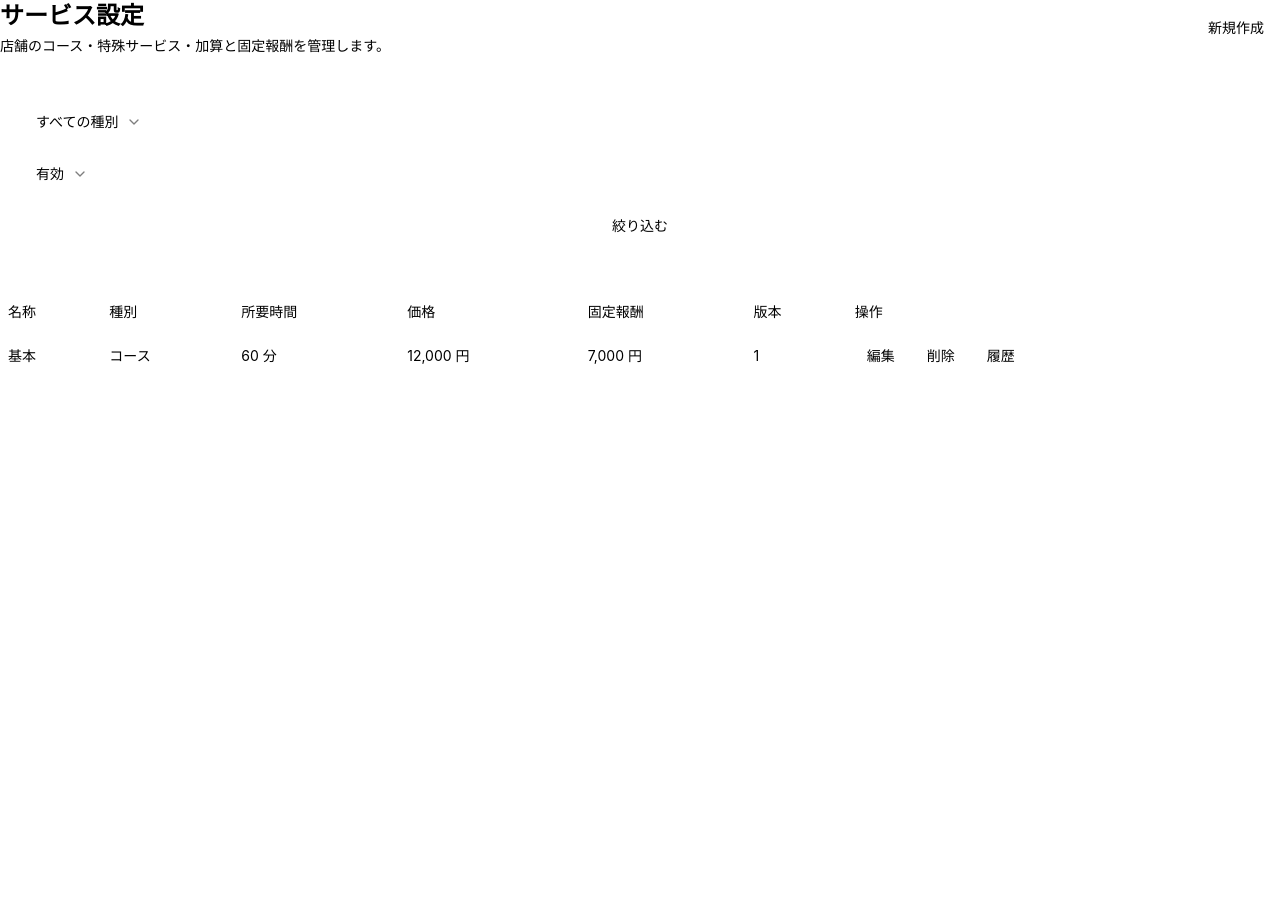
it: 存在しない詳細を Escape で閉じても一覧を再取得する
Click the button "編集" at point(881, 356), box top-left (855, 340), bottom-right (907, 372)
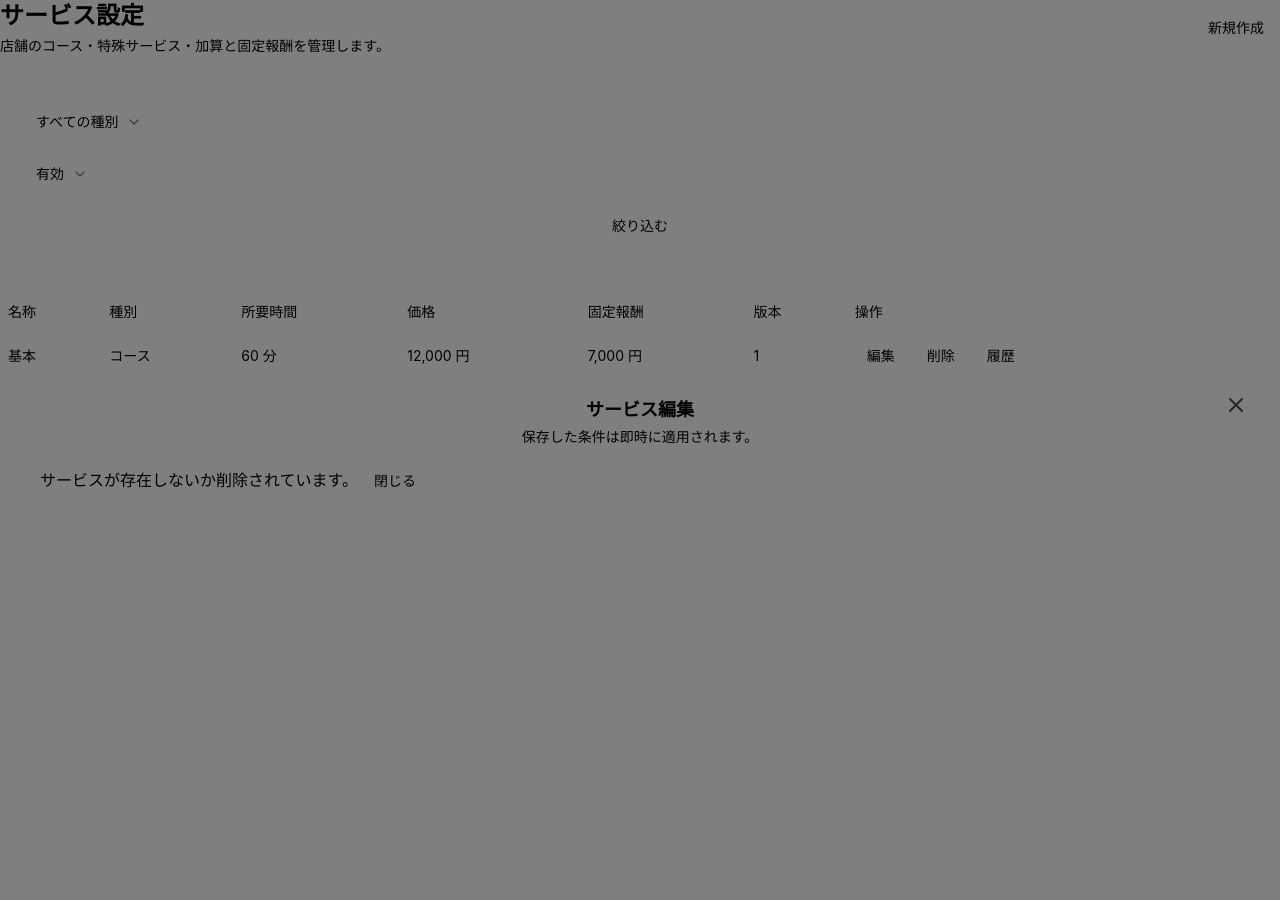
Expected: the message shows "サービスが存在しないか削除されています", top-left (40, 470), bottom-right (358, 490)
Press Escape in the dialog, box top-left (16, 377), bottom-right (1264, 523)
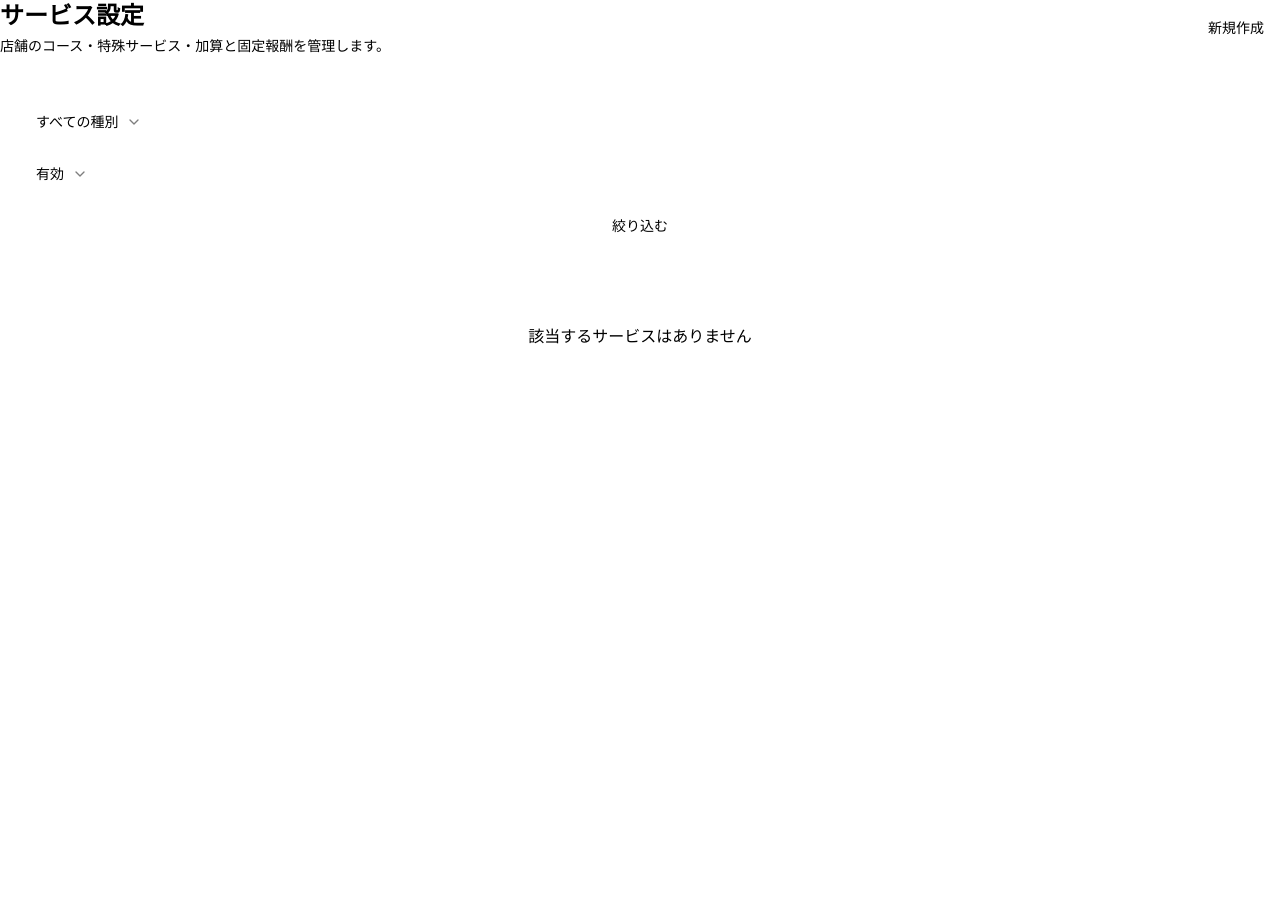
Expected: the text "該当するサービスはありません" is shown, top-left (528, 326), bottom-right (752, 346)
